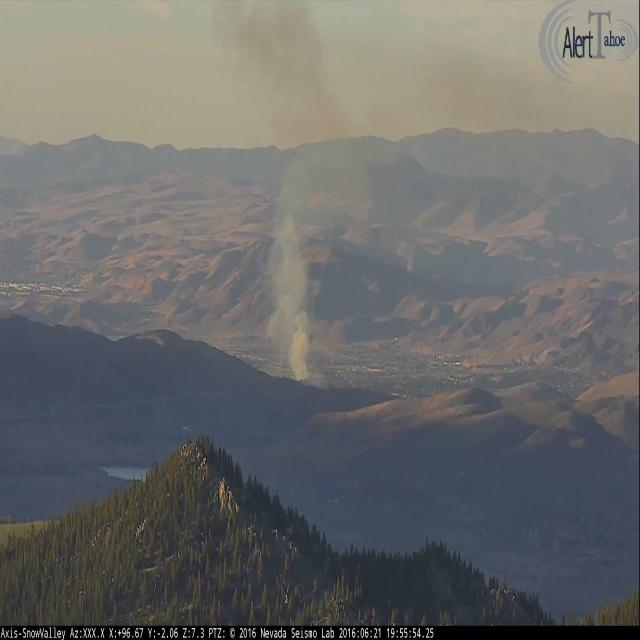smoke: (221, 1, 369, 385)
